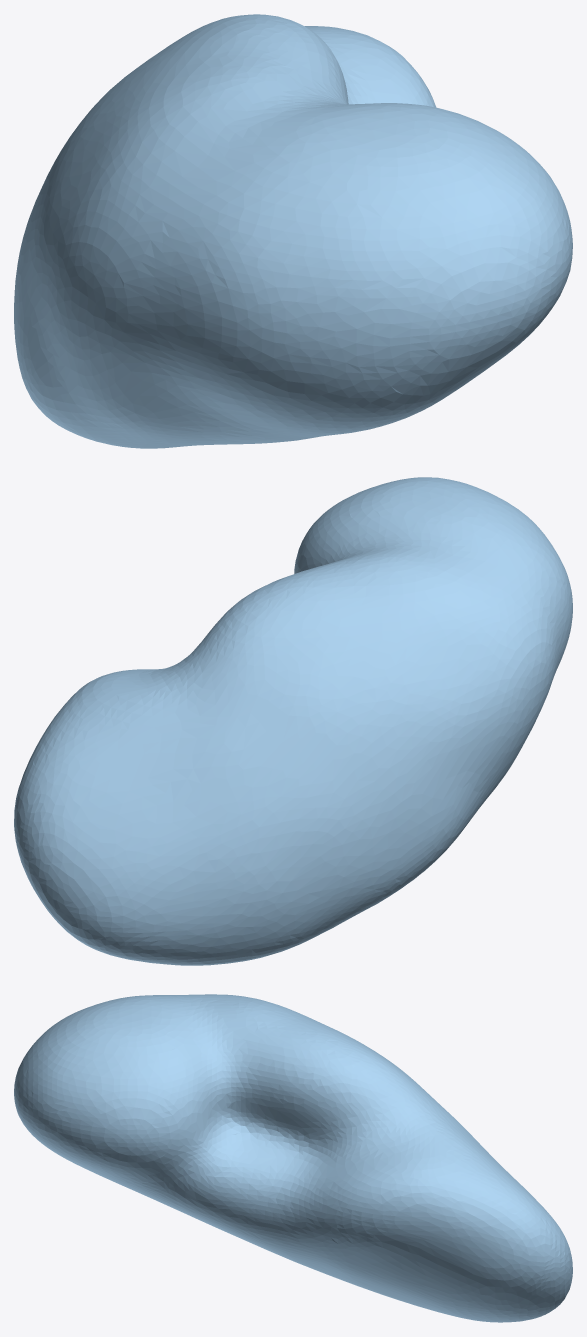
3 views of the same model, one above another, from view 1: azimuth 30°, elevation 25°; view 2: azimuth 150°, elevation 25°; view 3: azimuth 270°, elevation 25° (orthographic). The views are drawn at different scales.
Parts seen in each view (by area): view 1: world; view 2: world; view 3: world.
Part boxes in pixels (<box>): world: <box>14,14,572,448</box>; world: <box>14,477,572,965</box>; world: <box>14,994,572,1322</box>.
Bounding box in the file's own units: 0.5656 × 0.5005 × 0.9039.
